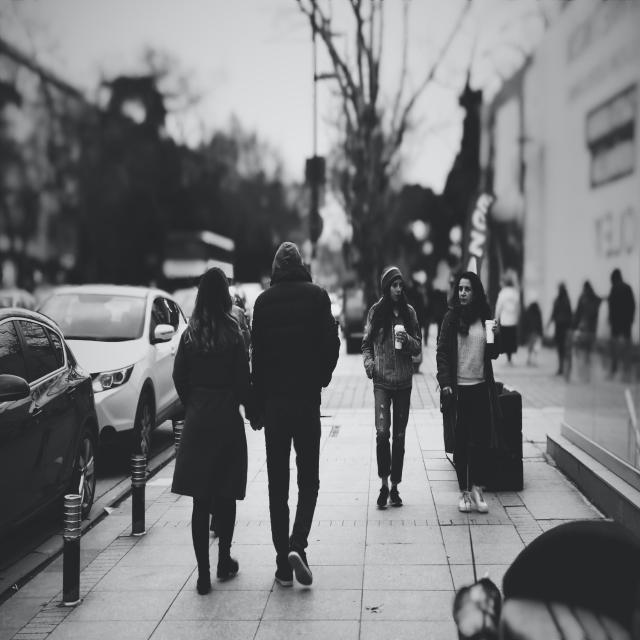adult: (250, 240, 336, 591), (172, 262, 251, 601), (434, 268, 497, 514), (361, 267, 424, 507)
